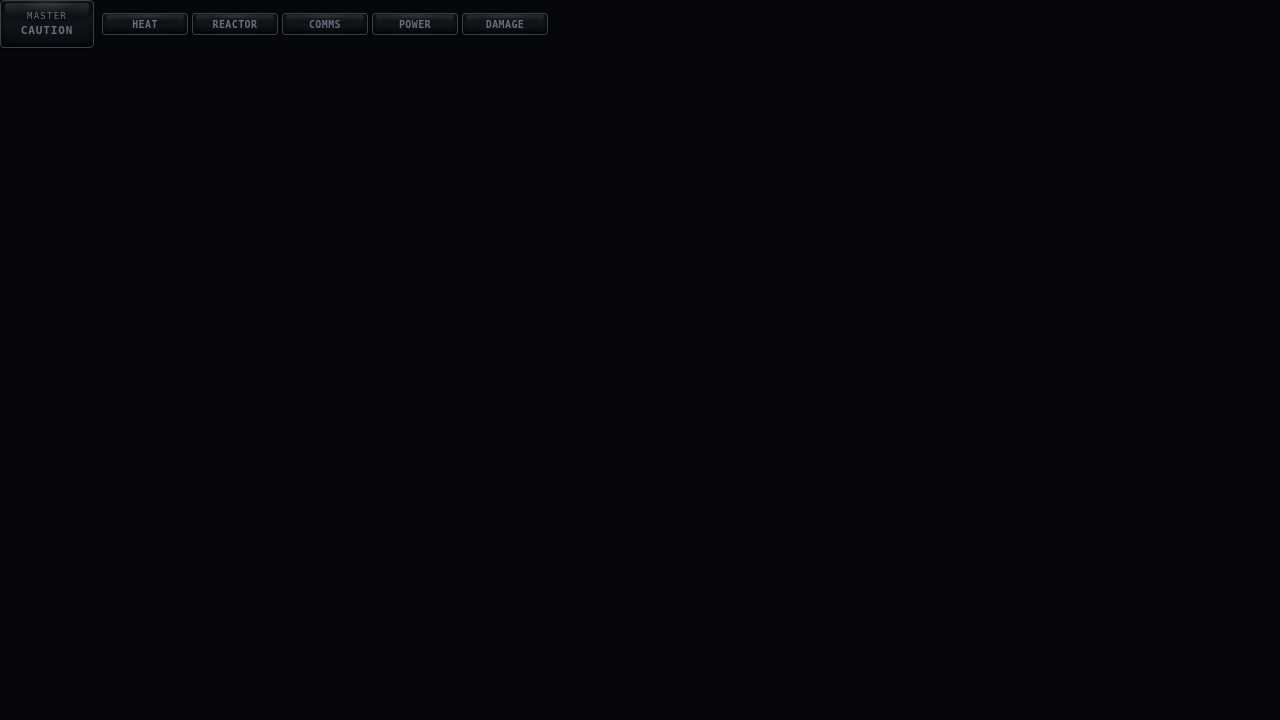
Flight annunciator surface › keeps the dark lamp operable for cleared history
This screenshot has width=1280, height=720.
Click the button with aria-label "Master caution clear".
click(47, 24)  # box [0,0,94,48]
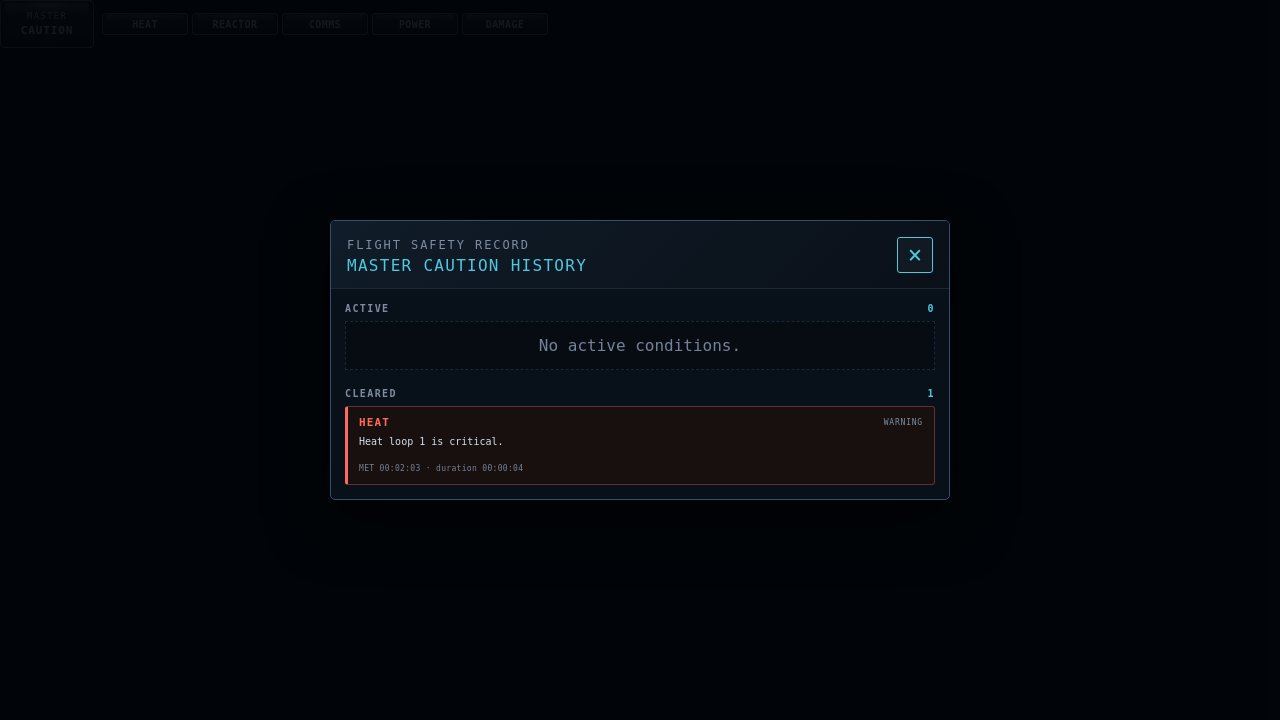
Check: the heading "Cleared 1" is shown, box [345,388,935,399]
Check: the text "MET 00:02:03 · duration 00:00:04" is shown, box [359,464,523,473]
